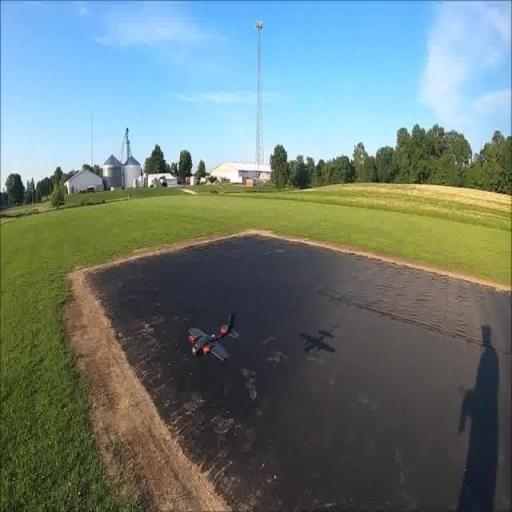uav: (184, 309, 242, 372)
